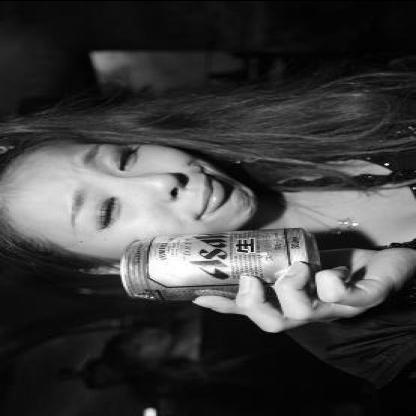alumunium_can: (121, 227, 322, 300)
